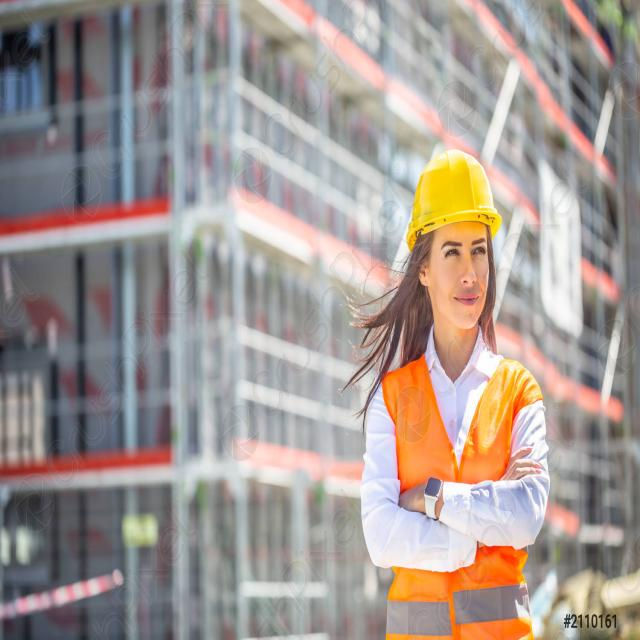helmet: (407, 129, 518, 243)
no-goggles: (428, 229, 501, 276)
vest: (373, 349, 548, 640)
